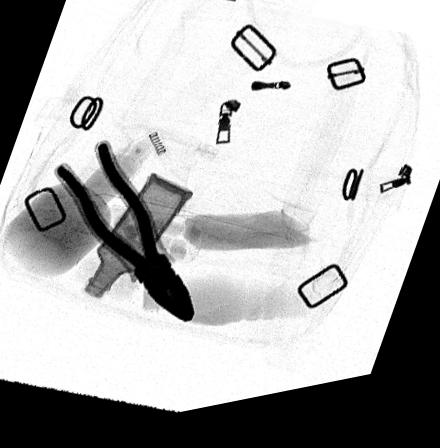Pliers: (50, 144, 194, 330)
